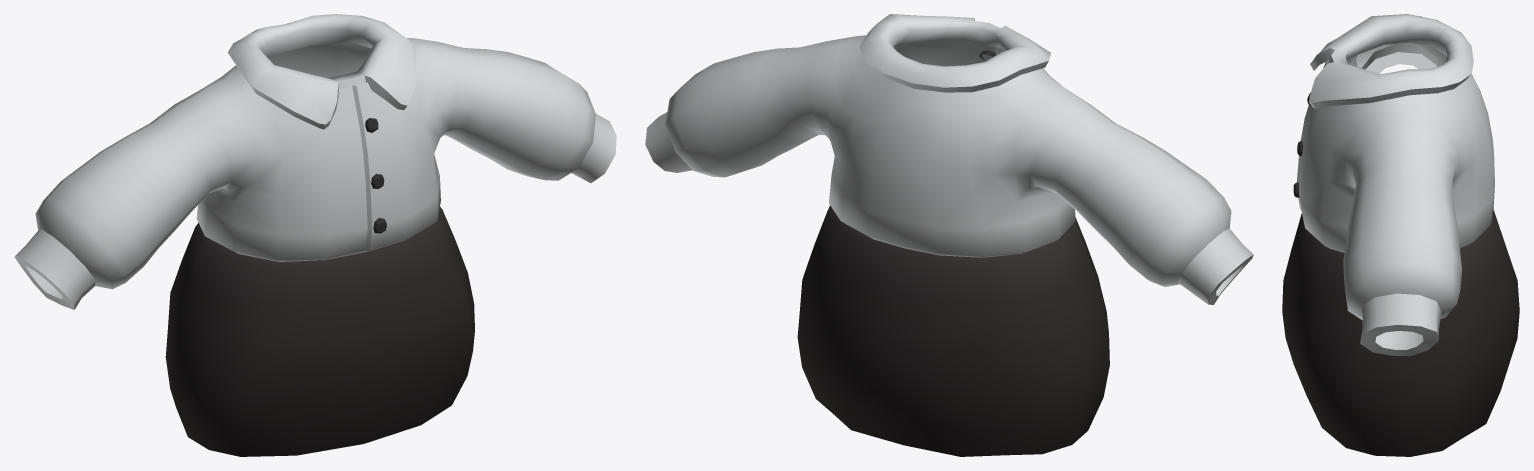
Rendered from Outfit_01.glb.
3 renders of one model, left to right at view 1: azimuth 30°, elevation 25°; view 2: azimuth 150°, elevation 25°; view 3: azimuth 270°, elevation 25°, orthographic. The views are drawn at different scales.
Visible parts, largest first — view 1: Outfit_01; view 2: Outfit_01; view 3: Outfit_01.
Boxes of the visible parts, x1=… form: Outfit_01: x1=14, y1=14, x2=616, y2=456; Outfit_01: x1=645, y1=14, x2=1253, y2=456; Outfit_01: x1=1282, y1=14, x2=1519, y2=456.
Bounding box in the file's own units: 0.6428 × 0.3913 × 0.2373.
1 material, 1 textured.
